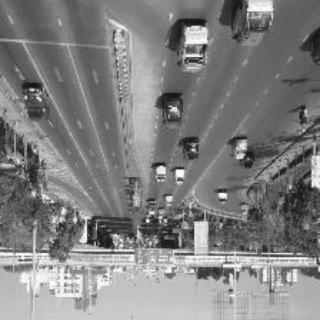other: (160, 190, 181, 211)
